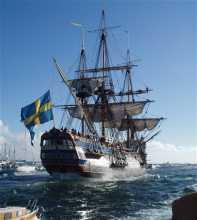fanchuan: (28, 10, 173, 178)
